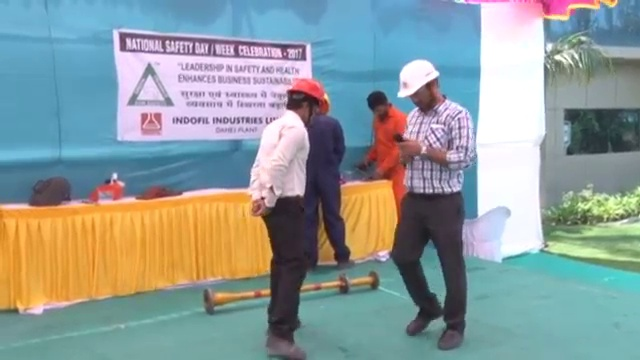helmet: (392, 56, 440, 100), (287, 78, 331, 104)
helmet_off: (367, 90, 391, 119)
helmet_on: (391, 54, 442, 112), (284, 78, 330, 125)
person: (390, 55, 477, 349), (246, 77, 330, 360), (303, 94, 360, 273), (365, 88, 409, 227)
